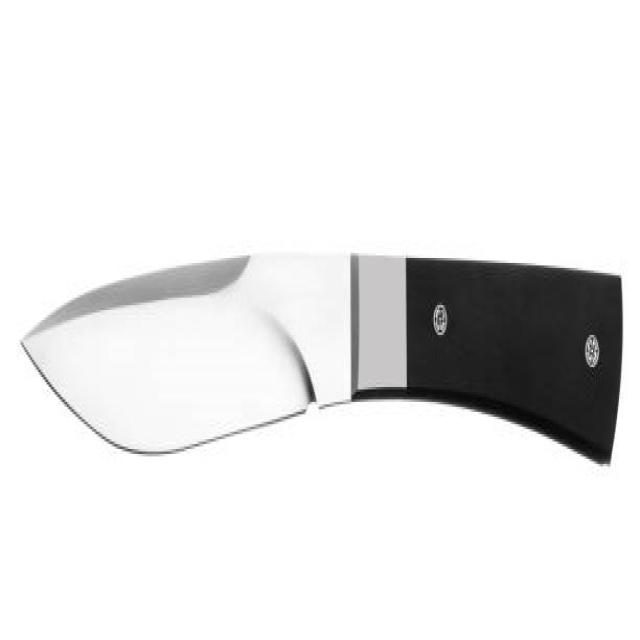knife: (19, 231, 630, 472)
